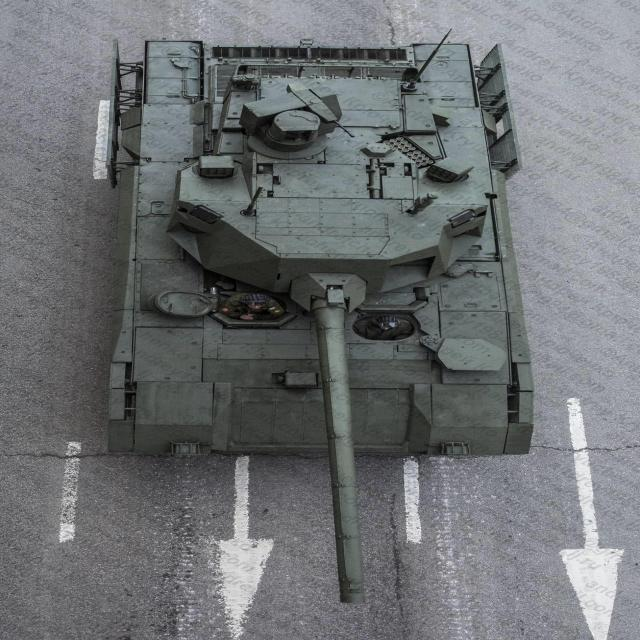Tanks: (96, 23, 583, 604)
